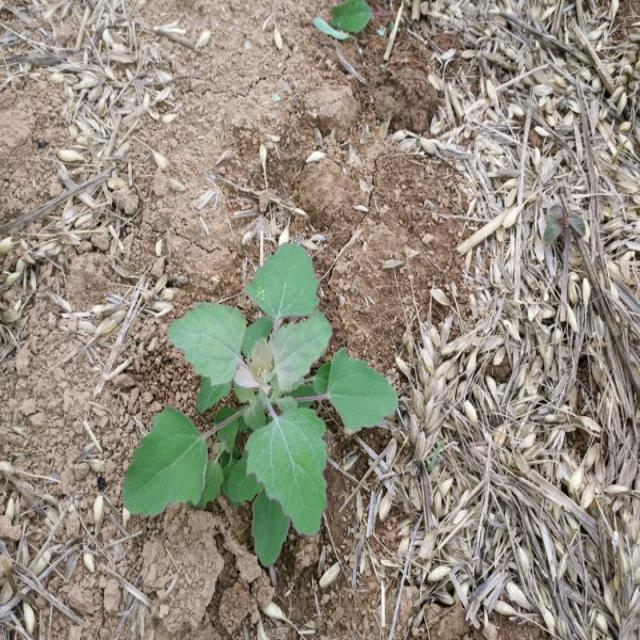ca: (125, 246, 403, 565)
